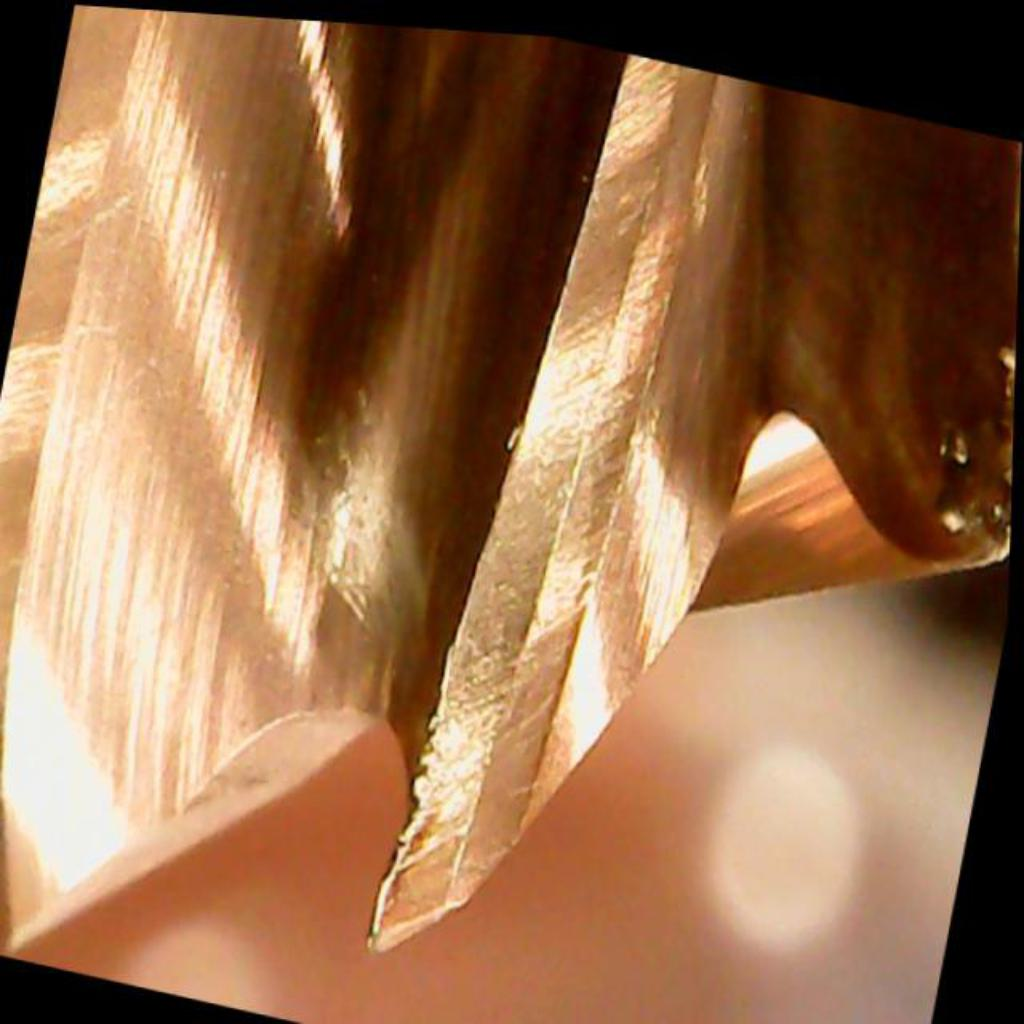Tool-wear-class-1: (323, 432, 712, 1013)
